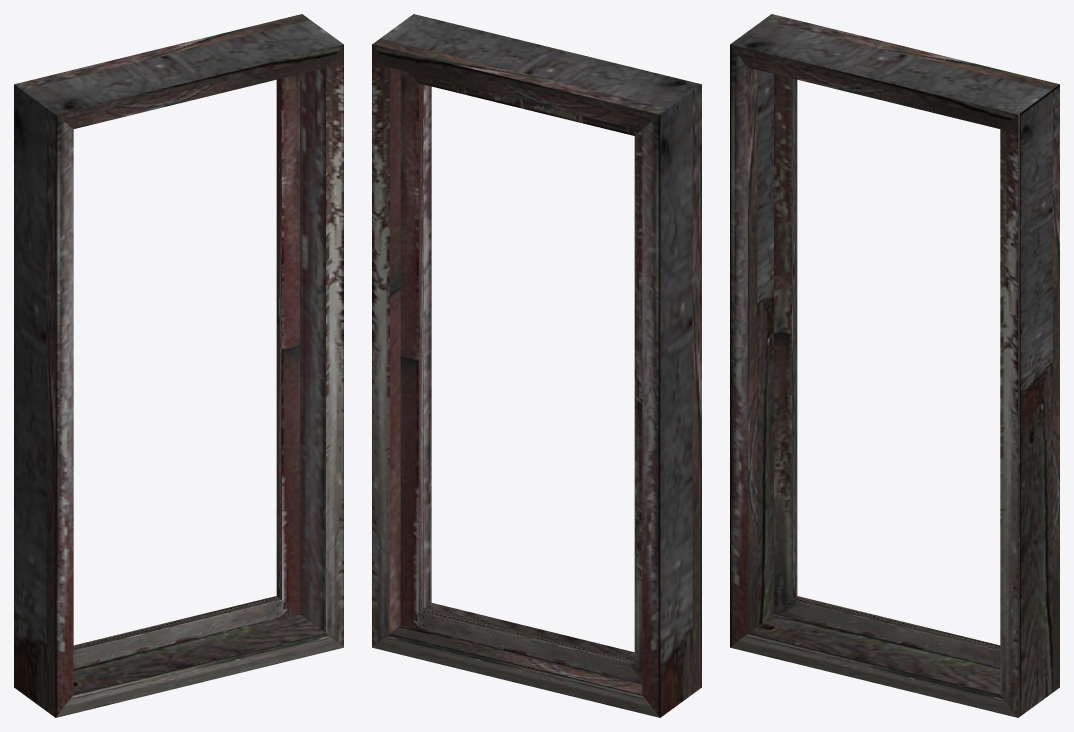
File: plasterwall029g_window01a.glb
3 views of the same model, side by side, from view 1: azimuth 30°, elevation 25°; view 2: azimuth 150°, elevation 25°; view 3: azimuth 330°, elevation 25° (orthographic).
Visible parts, largest first — view 1: plasterwall029g_window01a; view 2: plasterwall029g_window01a; view 3: plasterwall029g_window01a.
Boxes of the visible parts, x1,y1,x2,y2 form: plasterwall029g_window01a: [14, 14, 343, 717]; plasterwall029g_window01a: [372, 14, 701, 717]; plasterwall029g_window01a: [730, 14, 1059, 717].
Size of the model in its own units: 0.6096 by 1.22 by 0.1524.
1 material, 1 textured.
